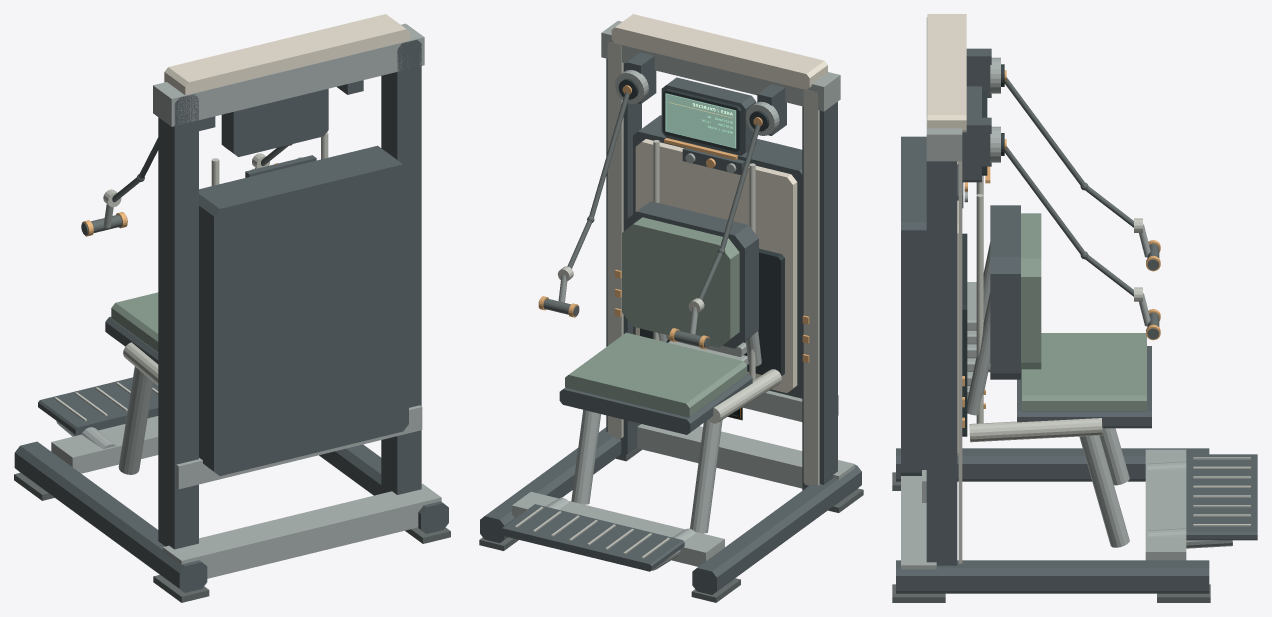
The model's file is exercise_station_retro.glb.
3 renders of one model, left to right at view 1: azimuth 30°, elevation 25°; view 2: azimuth 150°, elevation 25°; view 3: azimuth 270°, elevation 25°, orthographic. The views are drawn at different scales.
Parts seen in each view (by area): view 1: static__graphite, static__steel, static__cream, Control_Console__graphite, Foot_Rest__graphite, Seat_Frame__steel, Seat_Cushion__olive, static__rubber, Seat_Frame__graphite, Seat_Frame__satinsteel, Cable_Run__rubber; view 2: static__graphite, static__cream, static__steel, Backrest_Cushion__olive, static__satinsteel, Seat_Cushion__olive, Seat_Frame__graphite, Foot_Rest__graphite, Seat_Frame__steel, static__deep, Control_Console__exercise_display, Cable_Run__rubber (+9 smaller); view 3: static__graphite, Seat_Cushion__olive, static__steel, Seat_Frame__graphite, Foot_Rest__graphite, static__cream, Seat_Frame__steel, Backrest_Cushion__olive, Seat_Frame__satinsteel, Cable_Run__rubber, static__satinsteel, Resistance_Stack__satinsteel (+7 smaller).
Part boxes in pixels (<box>): static__graphite: <box>14,40,448,592</box>; static__steel: <box>51,23,441,578</box>; static__cream: <box>164,14,410,95</box>; Control_Console__graphite: <box>221,88,328,156</box>; Foot_Rest__graphite: <box>38,377,158,435</box>; Seat_Frame__steel: <box>118,366,153,474</box>; Seat_Cushion__olive: <box>111,292,158,352</box>; static__rubber: <box>14,472,450,602</box>; Seat_Frame__graphite: <box>105,316,158,363</box>; Seat_Frame__satinsteel: <box>123,342,158,385</box>; Cable_Run__rubber: <box>112,137,292,202</box>; static__graphite: <box>480,52,861,594</box>; static__cream: <box>611,14,827,392</box>; static__steel: <box>512,20,855,566</box>; Backrest_Cushion__olive: <box>622,217,739,347</box>; static__satinsteel: <box>607,41,819,485</box>; Seat_Cushion__olive: <box>565,332,747,417</box>; Seat_Frame__graphite: <box>559,201,758,434</box>; Foot_Rest__graphite: <box>500,504,684,571</box>; Seat_Frame__steel: <box>571,331,761,533</box>; static__deep: <box>640,248,784,375</box>; Control_Console__exercise_display: <box>665,93,736,148</box>; Cable_Run__rubber: <box>567,92,760,300</box>; static__graphite: <box>896,48,1209,593</box>; Seat_Cushion__olive: <box>1022,333,1146,411</box>; static__steel: <box>901,17,1186,569</box>; Seat_Frame__graphite: <box>990,205,1151,428</box>; Foot_Rest__graphite: <box>1186,454,1257,540</box>; static__cream: <box>927,14,966,456</box>; Seat_Frame__steel: <box>967,242,1129,547</box>; Backrest_Cushion__olive: <box>1021,213,1041,369</box>; Seat_Frame__satinsteel: <box>969,363,1102,442</box>; Cable_Run__rubber: <box>1004,77,1133,296</box>; static__satinsteel: <box>958,161,962,563</box>; Resistance_Stack__satinsteel: <box>976,175,983,423</box>.
Size of the model in its own units: 1.16 by 2.06 by 1.44.
Materials: 10 (2 with a texture image).
